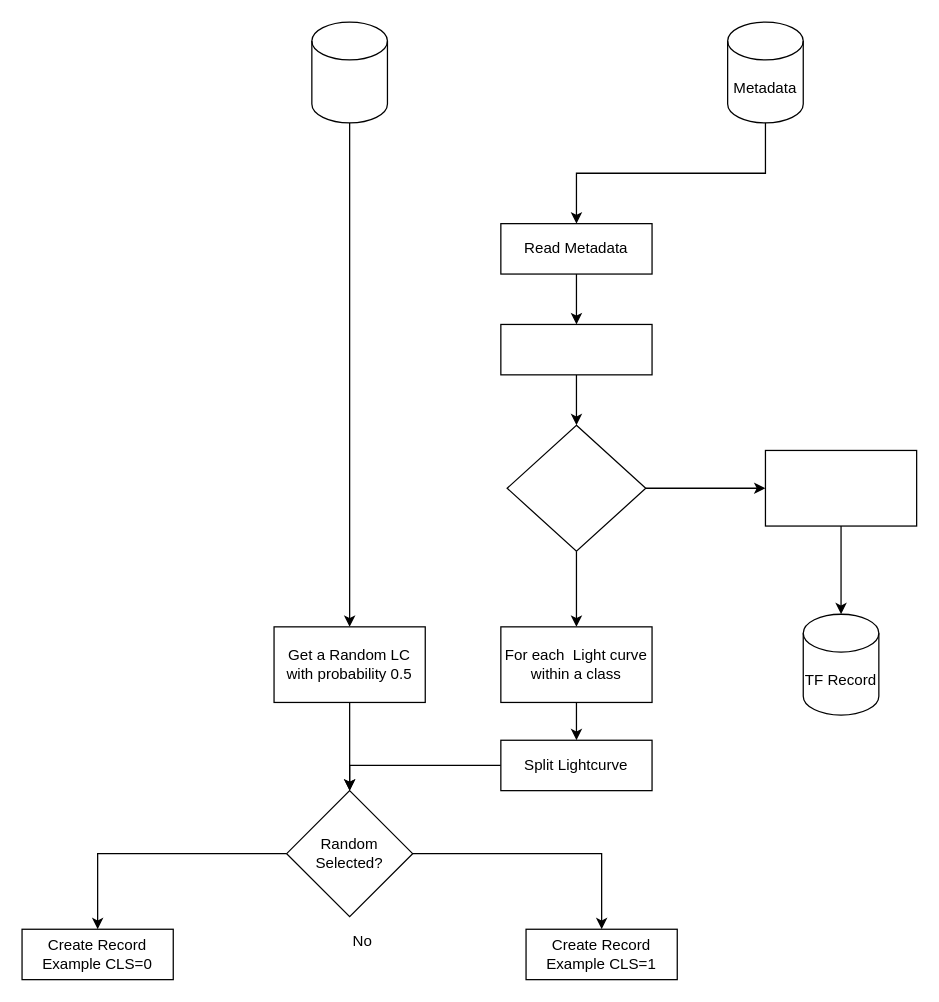
This 939x1002 diagram has some shape labels left out. The shapes that lost their labels are listed below. From the top down, each one's centre as x and y in pixels, then its label:
At (x=349, y=72): "Light Curves".
At (x=576, y=349): "Separate LC ids by class".
At (x=576, y=487): "next class?".
At (x=840, y=487): "Save Records".
